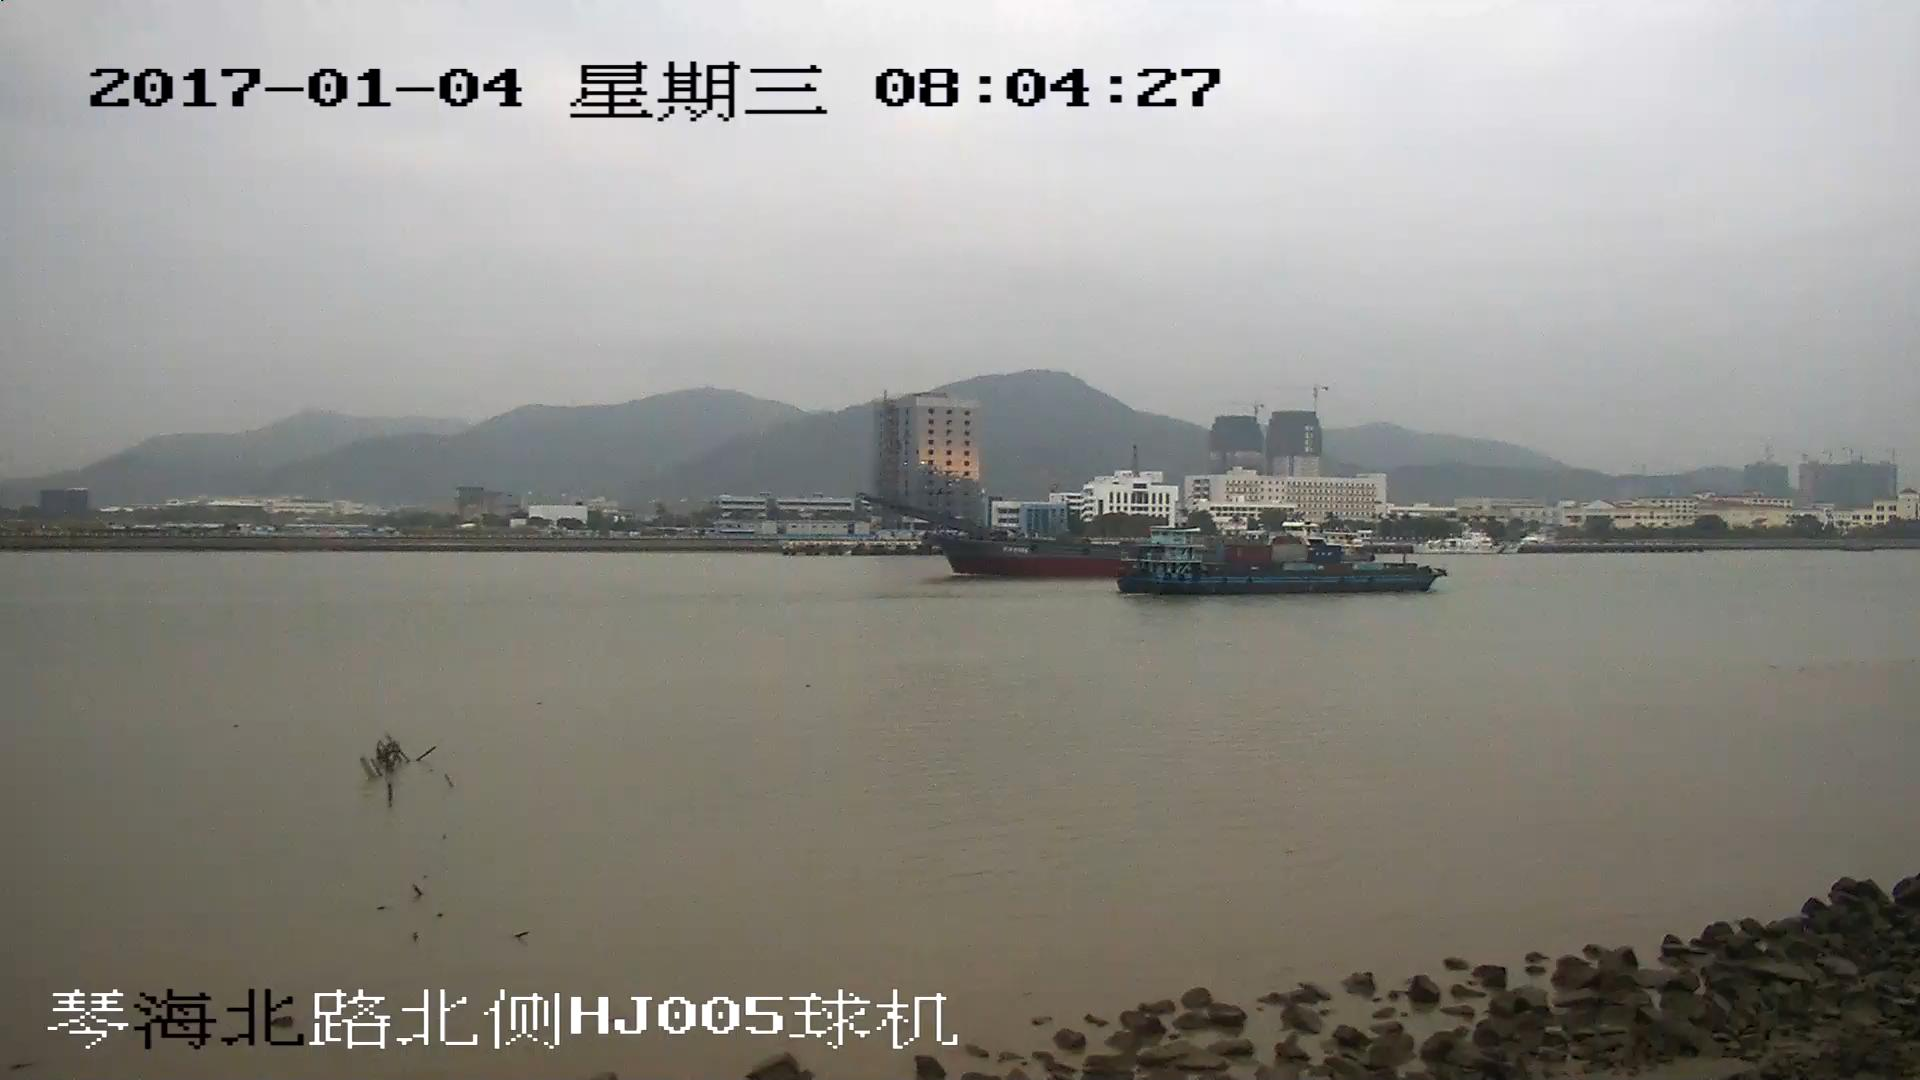bulk cargo carrier: (863, 494, 1124, 580)
container ship: (1124, 531, 1444, 594)
